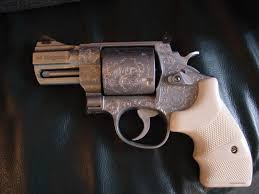gun: (29, 31, 255, 189)
